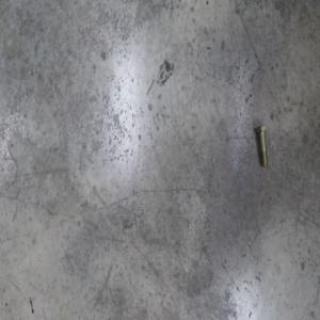Bolttrack_idkeyframe: (254, 123, 268, 167)
